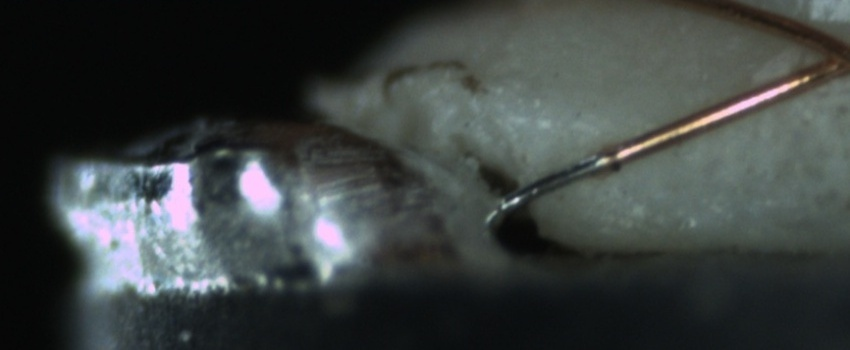CL: (799, 23, 850, 89)
TS: (494, 151, 614, 213)
